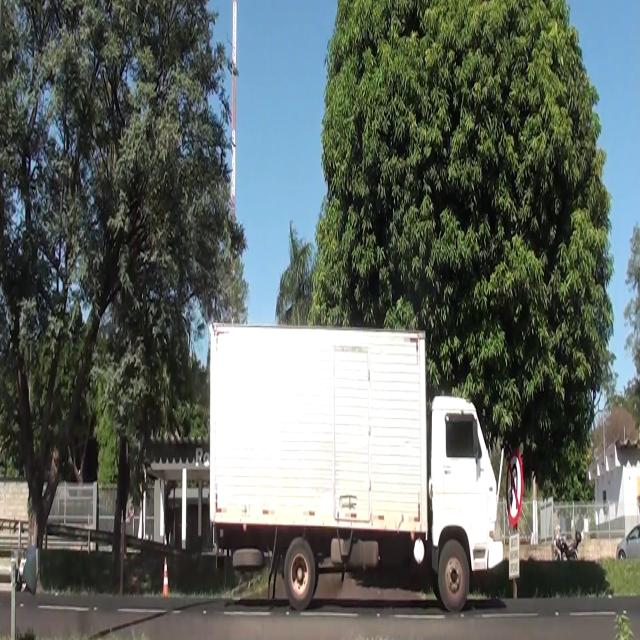-axle: (438, 540, 470, 609), (284, 539, 316, 605)
